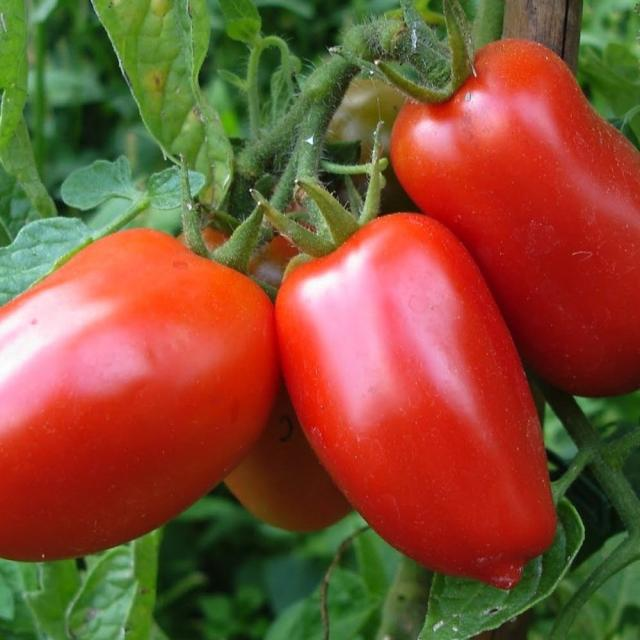tomato: (264, 204, 548, 582), (0, 208, 286, 557), (380, 48, 640, 402)
